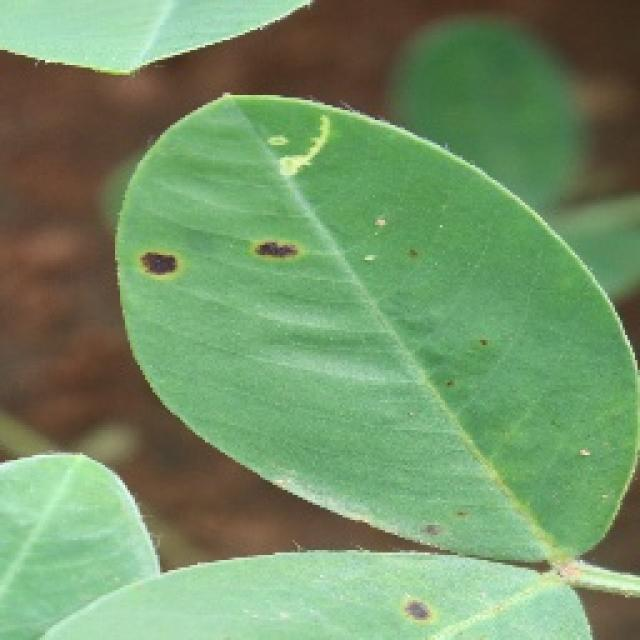Early_leaf_spot: (226, 208, 322, 288), (126, 229, 182, 291), (398, 592, 437, 634), (414, 518, 452, 552)
